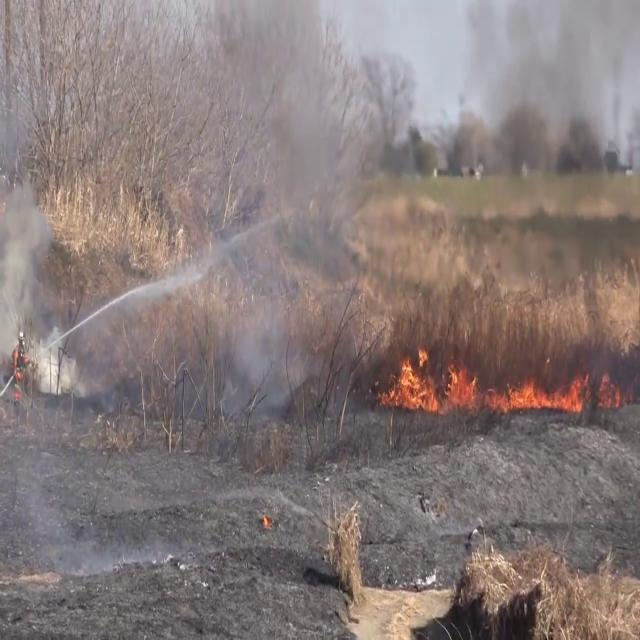Fire: (382, 342, 480, 420), (494, 362, 592, 422)
Smoke: (201, 2, 361, 412), (1, 6, 62, 382)
